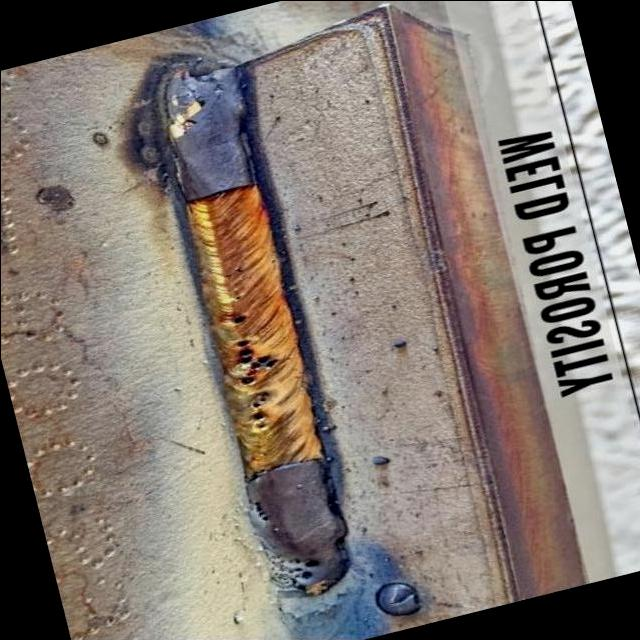defect: (229, 335, 285, 388), (260, 545, 322, 589), (248, 391, 271, 431), (251, 499, 270, 523), (220, 265, 242, 280), (228, 311, 251, 324), (228, 293, 242, 303)
